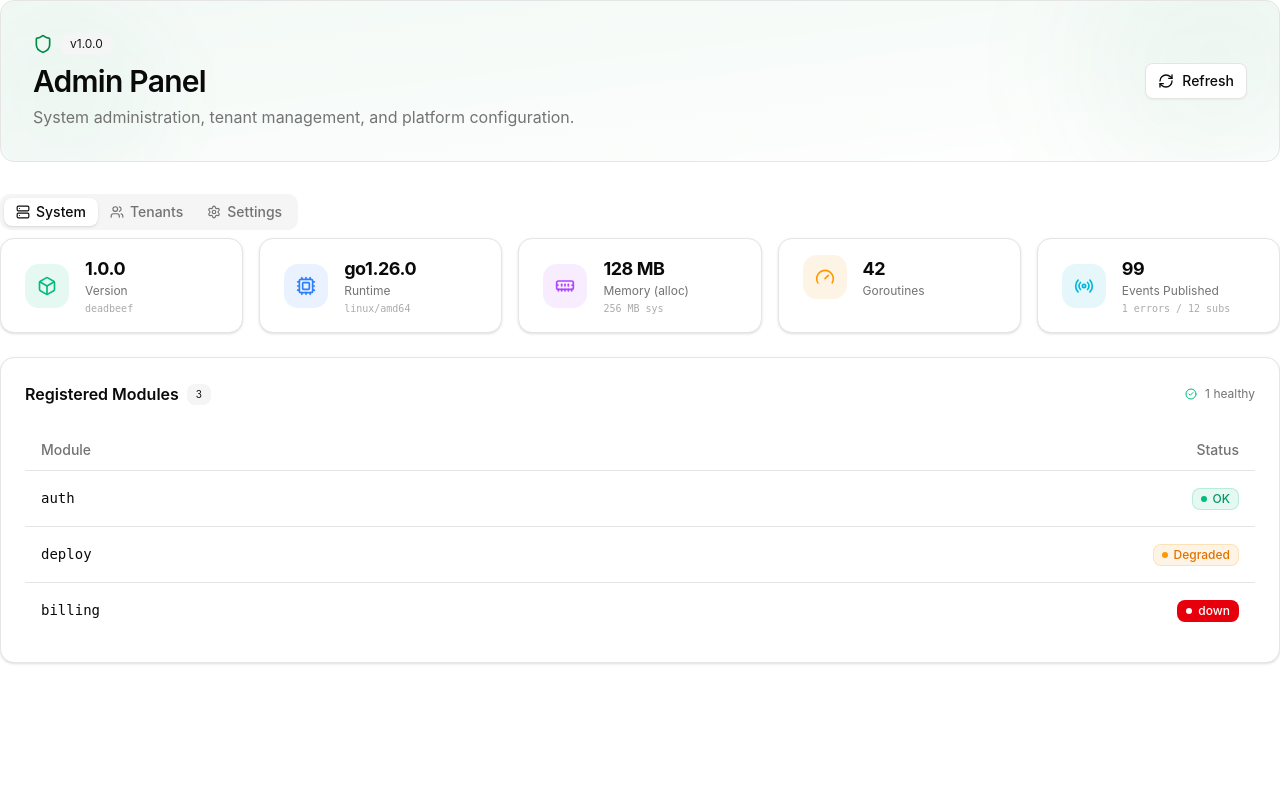
Test: Admin page › renders the tenant table rows when tenants exist
Click the tab "Tenants" at (147, 212), box [98,198,195,226]
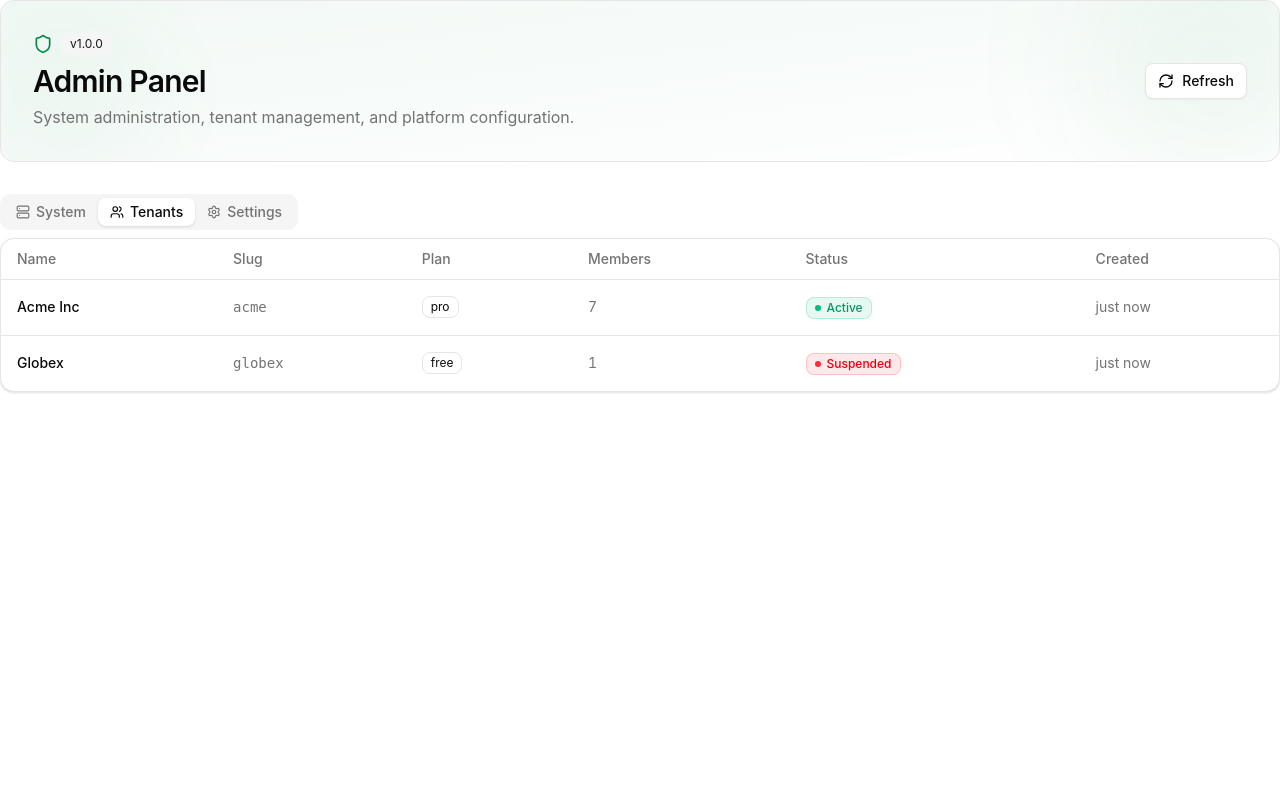
Expected: the text "Acme Inc" is shown, [17,298,80,315]
Expected: the text "Globex" is shown, [17,354,64,371]
Expected: the text "pro" is shown, [422,296,459,318]
